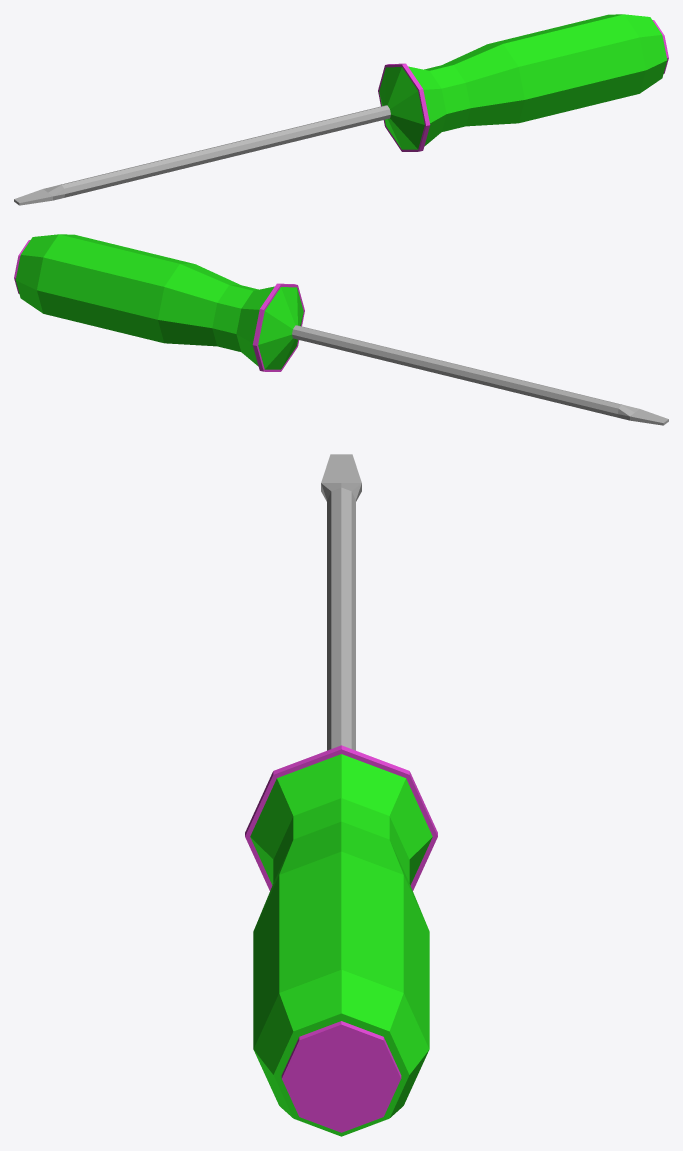
File: Screwdriver_01.fbx
3 views of the same model, one above another, from view 1: azimuth 30°, elevation 25°; view 2: azimuth 150°, elevation 25°; view 3: azimuth 270°, elevation 25° (orthographic). The views are drawn at different scales.
Parts seen in each view (by area): view 1: Screwdriver_01; view 2: Screwdriver_01; view 3: Screwdriver_01.
Part boxes in pixels (bbox=[...]): Screwdriver_01: bbox=[14, 14, 668, 205]; Screwdriver_01: bbox=[14, 234, 668, 425]; Screwdriver_01: bbox=[245, 454, 437, 1136].
Size of the model in its own units: 46.89 by 6.15 by 6.15.
